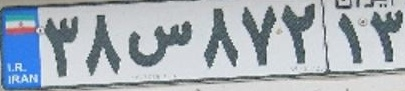character: (119, 11, 203, 69), (195, 6, 241, 76), (79, 12, 126, 79), (238, 1, 279, 74), (40, 12, 83, 81), (279, 1, 321, 71), (368, 7, 405, 67), (333, 11, 367, 70)
